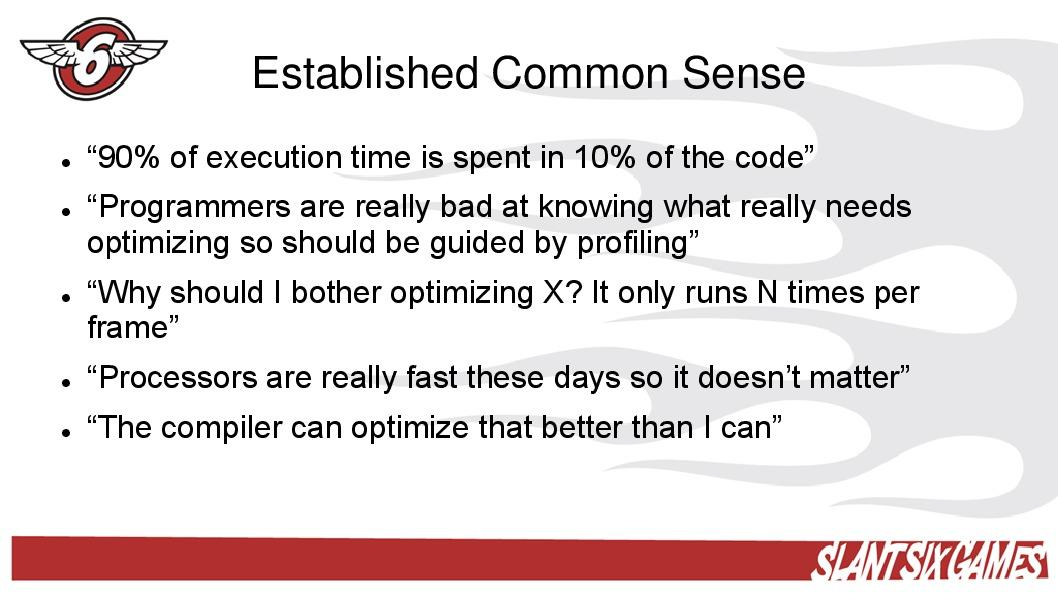paragraph: (51, 131, 943, 473)
subtitle: (800, 523, 1058, 593)
title: (246, 43, 815, 102)
